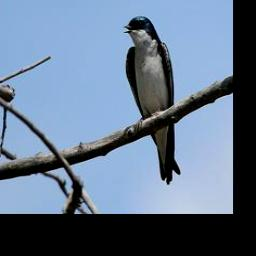Swallow: (123, 16, 181, 185)
